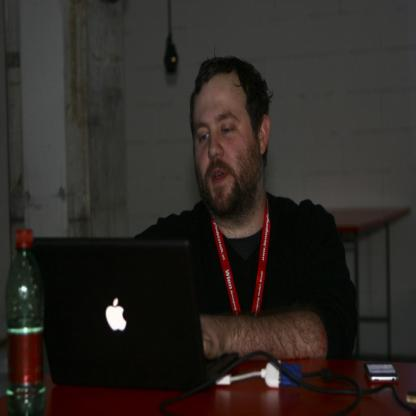board: (41, 250, 202, 394), (8, 228, 46, 416)
